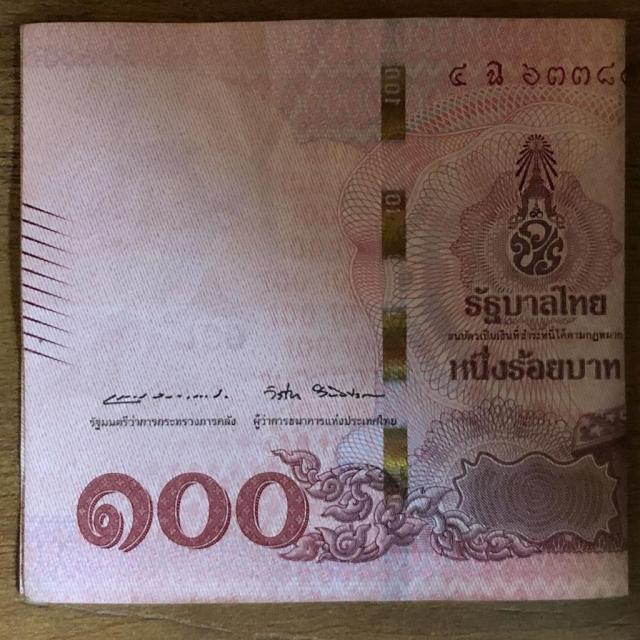THAI100: (19, 19, 628, 603)
